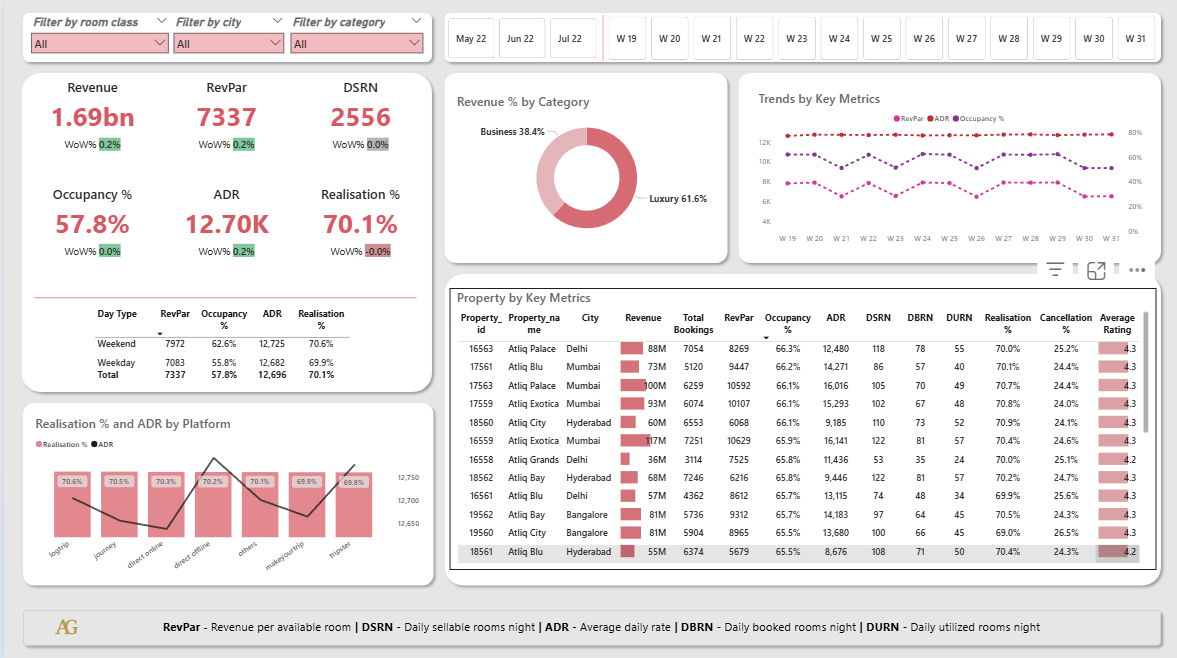

What the dashboard file says about the page in this screenshot:
{"tool":"powerbi","page":{"name":"DashBoard","canvas":[1920,1080],"ordinal":1},"visuals":[{"type":"shape","box":[19.5,119.6,685.6,536.8],"z":0},{"type":"shape","box":[22,656.3,685.6,314.7],"z":1000},{"type":"shape","box":[707.5,446.5,1183.3,524.6],"z":2000},{"type":"shape","box":[707.5,119.6,478.2,326.9],"z":3000},{"type":"shape","box":[1185.8,119.6,705.1,326.9],"z":4000},{"type":"shape","box":[22,22,683.1,97.6],"z":5000},{"type":"shape","box":[707.5,22,1183.3,97.6],"z":6000},{"type":"shape","box":[22,993,1868.9,75.6],"z":7000},{"type":"textbox","box":[252.5,1011.1,1478.8,39.4],"z":8000},{"type":"image","box":[39,988.1,124.4,87.8],"z":9000},{"type":"slicer","fields":{"Values":["dim_rooms.room_class"]},"box":[38.5,33.3,233.3,76.9],"z":10000},{"type":"slicer","fields":{"Values":["dim_hotels.city"]},"box":[271.8,33.3,189.7,79.5],"z":11000},{"type":"slicer","fields":{"Values":["dim_hotels.category"]},"box":[461.5,33.3,225.6,76.9],"z":12000},{"type":"advancedSlicerVisual","fields":{"Values":["dim_date.Start of Month"]},"box":[717.1,34.2,251.3,75],"z":13000},{"type":"advancedSlicerVisual","fields":{"Values":["dim_date.Week Number"]},"box":[978.9,31.6,905.3,80.3],"z":14000},{"type":"shape","box":[960.5,34.2,26.3,75],"z":15000},{"type":"cardVisual","fields":{"Data":["base_measures.Revenue","base_measures.RevPar","base_measures.DSRN","base_measures.Occupancy %","base_measures.ADR","base_measures.Realisation %"]},"box":[39,139.1,649,339.1],"z":16000},{"type":"tableEx","fields":{"Values":["dim_date.day_type","base_measures.RevPar","base_measures.Occupancy %","base_measures.ADR","base_measures.Realisation %"]},"box":[133.3,507.7,448.7,135.9],"z":17000},{"type":"shape","box":[48.8,478.2,622.2,31.7],"z":18000},{"type":"lineStackedColumnComboChart","title":"Realisation % and ADR by Platform","fields":{"Y":["base_measures.Realisation %"],"Category":["fact_bookings.booking_platform"],"Y2":["base_measures.ADR"]},"box":[39,673.4,649,287.9],"z":19000},{"type":"donutChart","title":"Revenue % by Category","fields":{"Y":["base_measures.Revenue"],"Category":["dim_hotels.category"]},"box":[724.6,148.8,446.5,268.4],"z":20000},{"type":"lineChart","title":"Trends by Key Metrics","fields":{"Y":["base_measures.RevPar","base_measures.ADR"],"Category":["dim_date.Week Number"],"Y2":["base_measures.Occupancy %"]},"box":[1215,143.9,649,278.1],"z":21000},{"type":"tableEx","title":"Property by Key Metrics","fields":{"Values":["dim_hotels.property_id","dim_hotels.property_name","dim_hotels.city","base_measures.Revenue","base_measures.Total Bookings","base_measures.RevPar","base_measures.Occupancy %","base_measures.ADR","base_measures.DSRN","base_measures.DBRN","base_measures.DURN","base_measures.Realisation %"]},"box":[724.6,478.2,1149.2,458.7],"z":21001}]}

Visuals, with their boxes in screenshot pixels (x1, y1, x2, y2), scaled from the page's 1920x1080 canvas onto the 1177x658 screenshot:
shape: pyautogui.locateOnScreen(12, 73, 432, 400)
shape: pyautogui.locateOnScreen(13, 400, 434, 592)
shape: pyautogui.locateOnScreen(434, 272, 1159, 592)
shape: pyautogui.locateOnScreen(434, 73, 727, 272)
shape: pyautogui.locateOnScreen(727, 73, 1159, 272)
shape: pyautogui.locateOnScreen(13, 13, 432, 73)
shape: pyautogui.locateOnScreen(434, 13, 1159, 73)
shape: pyautogui.locateOnScreen(13, 605, 1159, 651)
textbox: pyautogui.locateOnScreen(155, 616, 1061, 640)
image: pyautogui.locateOnScreen(24, 602, 100, 656)
slicer - dim_rooms.room_class: pyautogui.locateOnScreen(24, 20, 167, 67)
slicer - dim_hotels.city: pyautogui.locateOnScreen(167, 20, 283, 69)
slicer - dim_hotels.category: pyautogui.locateOnScreen(283, 20, 421, 67)
advancedSlicerVisual - dim_date.Start of Month: pyautogui.locateOnScreen(440, 21, 594, 67)
advancedSlicerVisual - dim_date.Week Number: pyautogui.locateOnScreen(600, 19, 1155, 68)
shape: pyautogui.locateOnScreen(589, 21, 605, 67)
cardVisual - base_measures.Revenue x base_measures.RevPar: pyautogui.locateOnScreen(24, 85, 422, 291)
tableEx - dim_date.day_type x base_measures.RevPar: pyautogui.locateOnScreen(82, 309, 357, 392)
shape: pyautogui.locateOnScreen(30, 291, 411, 311)
"Realisation % and ADR by Platform" lineStackedColumnComboChart: pyautogui.locateOnScreen(24, 410, 422, 586)
"Revenue % by Category" donutChart: pyautogui.locateOnScreen(444, 91, 718, 254)
"Trends by Key Metrics" lineChart: pyautogui.locateOnScreen(745, 88, 1143, 257)
"Property by Key Metrics" tableEx: pyautogui.locateOnScreen(444, 291, 1149, 571)
